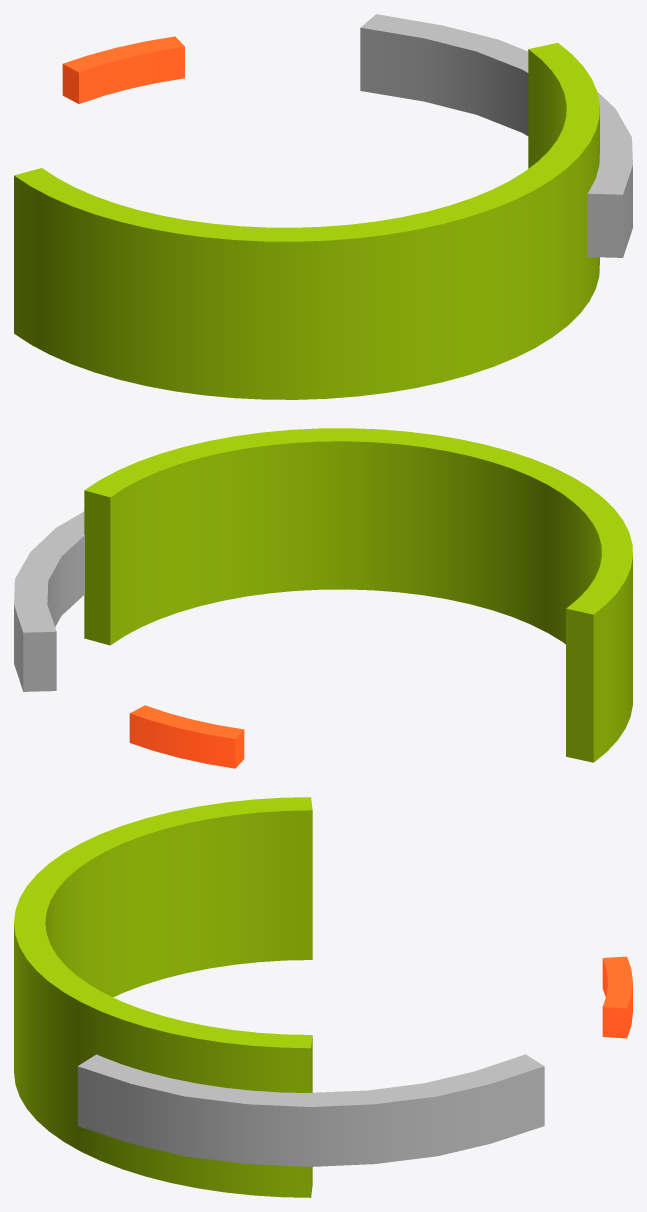
File: Pong Goal.fbx
The picture shows the model from 3 angles, top to bottom: view 1: azimuth 30°, elevation 25°; view 2: azimuth 150°, elevation 25°; view 3: azimuth 270°, elevation 25°; orthographic projection. The views are drawn at different scales.
Visible parts, largest first — view 1: Goal, Pong Bumper, Paddle; view 2: Goal, Pong Bumper, Paddle; view 3: Goal, Pong Bumper, Paddle.
Boxes of the visible parts, x1,y1,x2,y2 form: Goal: [14, 43, 599, 399]; Pong Bumper: [360, 14, 632, 257]; Paddle: [62, 36, 184, 103]; Goal: [84, 428, 632, 762]; Pong Bumper: [14, 511, 84, 691]; Paddle: [129, 705, 244, 768]; Goal: [14, 797, 312, 1197]; Pong Bumper: [77, 1054, 544, 1166]; Paddle: [602, 956, 632, 1038].
Bounding box in the file's own units: 190 × 50 × 188.
